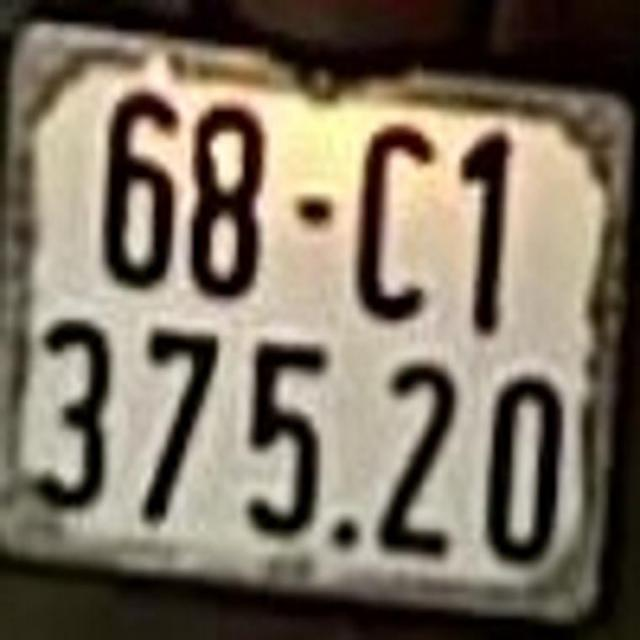0: (493, 372, 558, 566)
1: (459, 118, 506, 324)
2: (387, 362, 449, 553)
3: (35, 318, 112, 510)
5: (253, 340, 326, 535)
6: (110, 88, 173, 279)
7: (144, 323, 220, 528)
8: (192, 106, 259, 292)
C: (360, 121, 430, 322)
